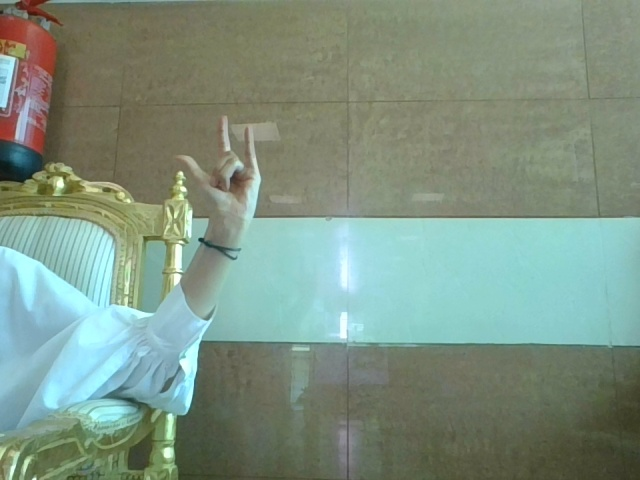I love you: (148, 98, 310, 295)
